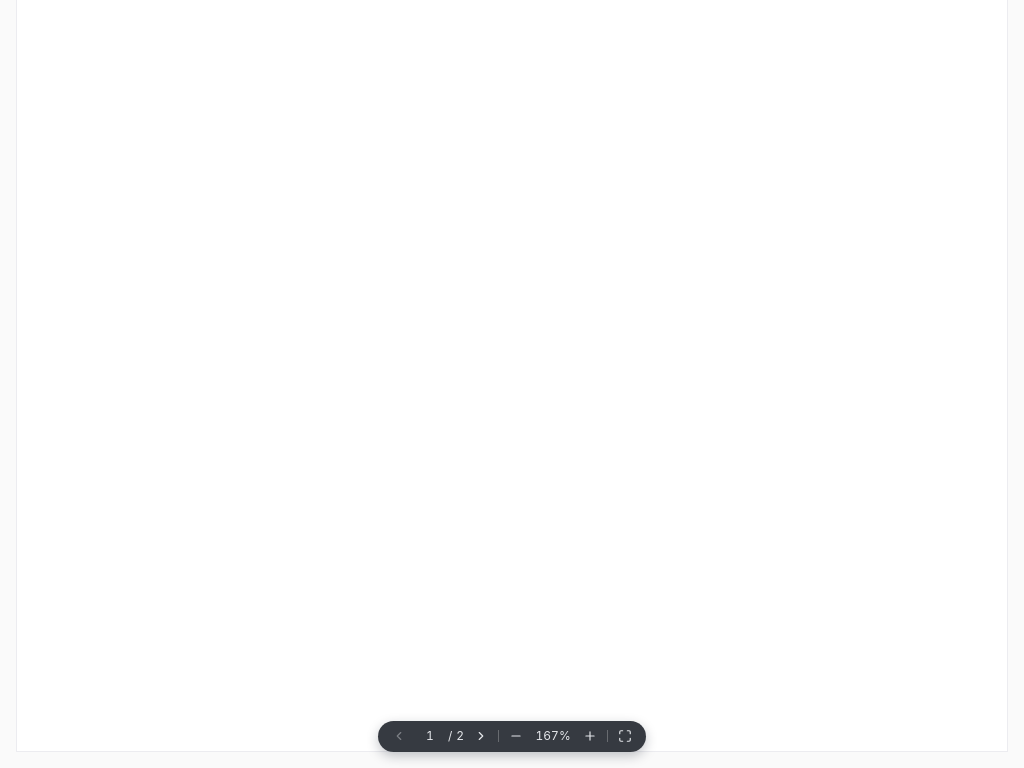
Test case: PdfViewer › 범위 밖 페이지를 입력하면 현재 페이지로 복원한다
(page scrolled)
Replace the text in the field with test id "pdf-page-input" with "99" at (430, 736), box 416,728 -> 444,745
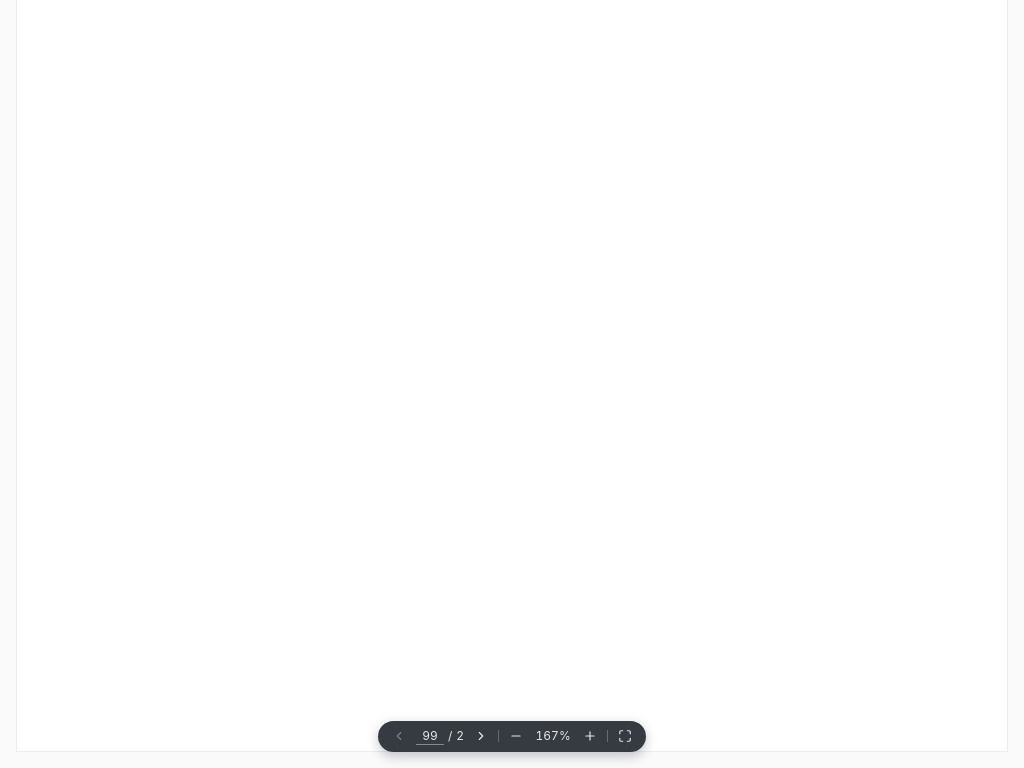
Press Enter
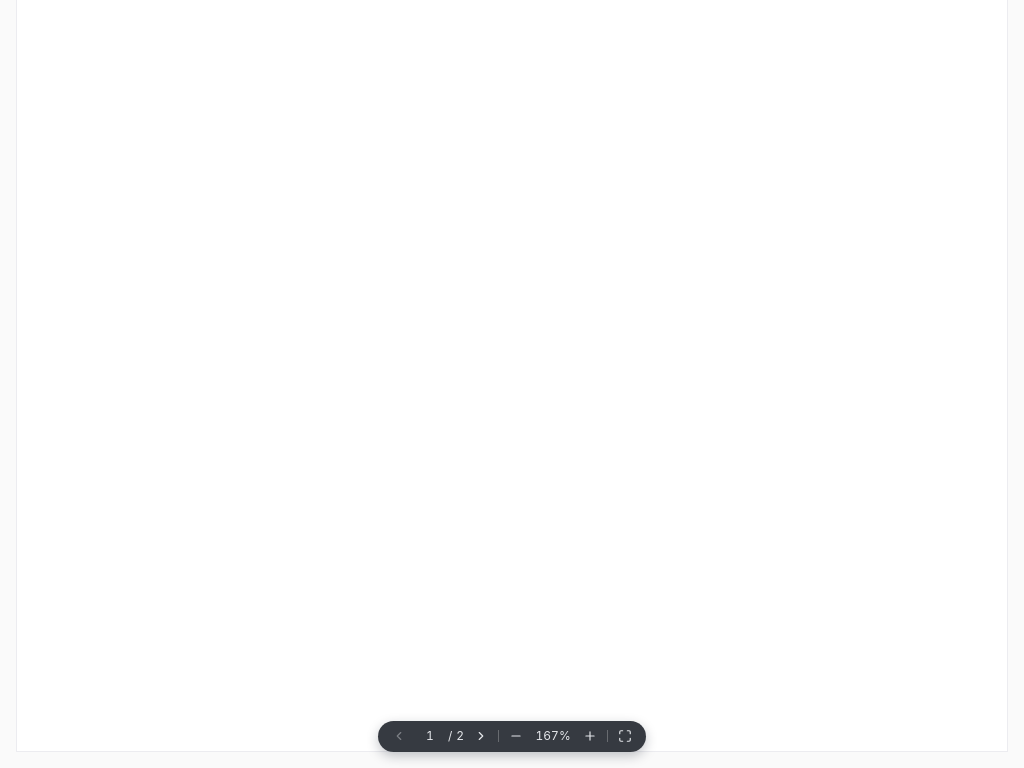
Now the field with test id "pdf-page-input" holds "1", box 416,728 -> 444,745
